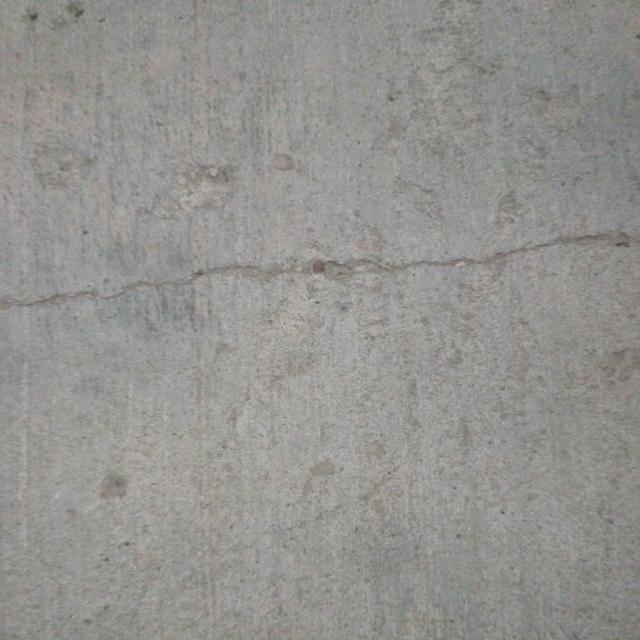cracks: (0, 207, 639, 336)
